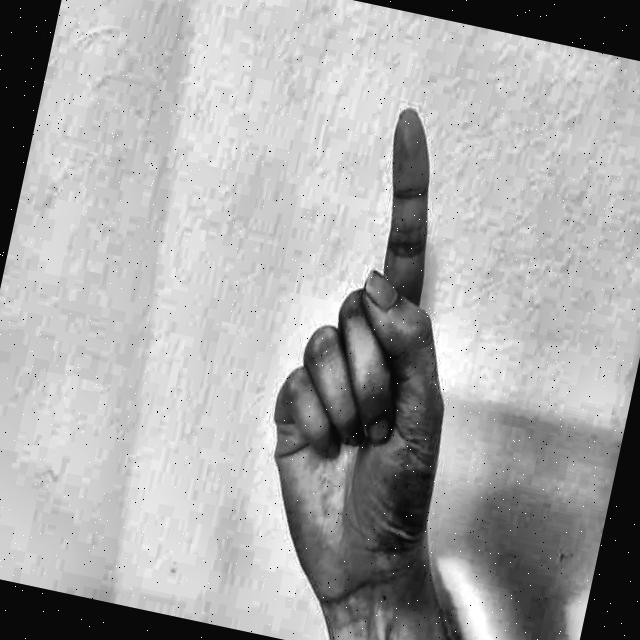U: (203, 53, 562, 614)
